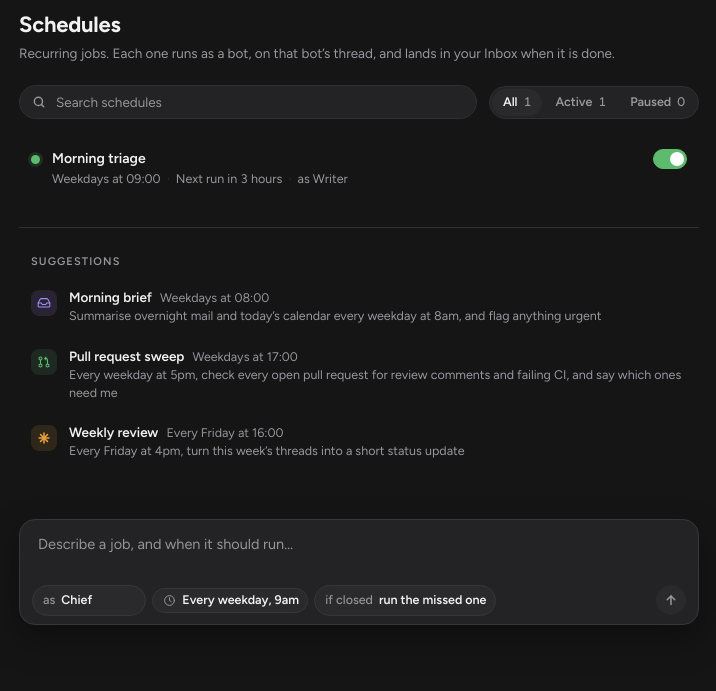
SchedulesView › opens a row to the prompt, the last run, and the buttons
Click the button that starts with "Morning triage" at (332, 168), box [19,136,645,202]
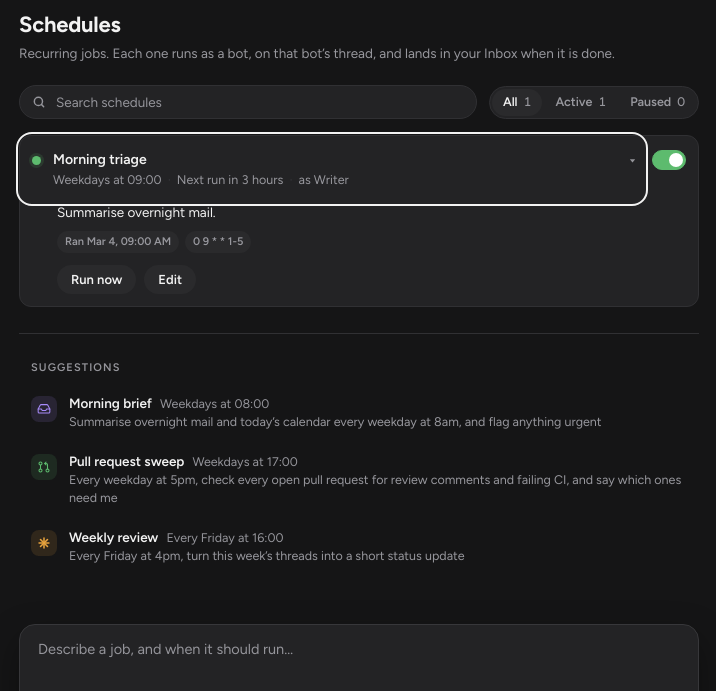
Result: the text "Summarise overnight mail." is shown at [57,204,216,220]
Result: the text "Ran Mar 4, 09:00 AM" is shown at [57,231,179,253]
Result: the button "Run now" is shown at [57,265,136,294]
